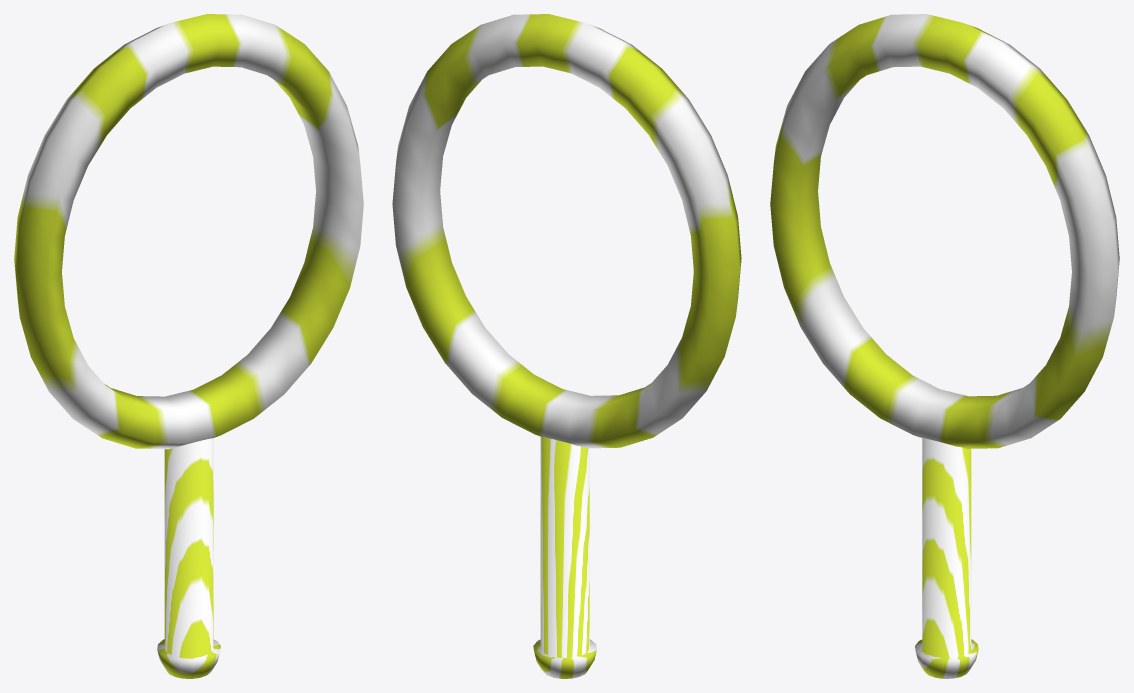
Rendered from Tennis racket.fbx.
3 views of the same model, side by side, from view 1: azimuth 30°, elevation 25°; view 2: azimuth 150°, elevation 25°; view 3: azimuth 330°, elevation 25° (orthographic).
Parts seen in each view (by area): view 1: Cylinder.001; view 2: Cylinder.001; view 3: Cylinder.001.
Boxes of the visible parts, x1=… form: Cylinder.001: x1=14, y1=14, x2=363, y2=678; Cylinder.001: x1=392, y1=14, x2=741, y2=678; Cylinder.001: x1=770, y1=14, x2=1119, y2=678.
Size of the model in its own units: 64.28 by 116 by 10.51.
